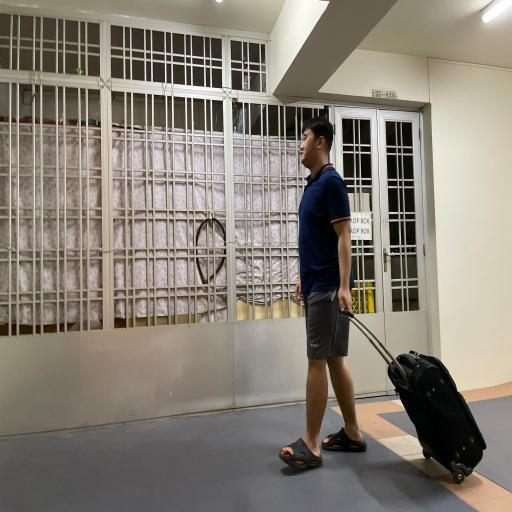person_left: (270, 112, 478, 498)
